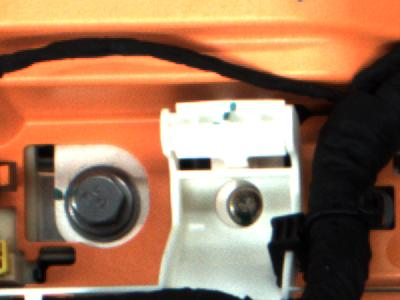nut_b: (66, 155, 151, 244)
